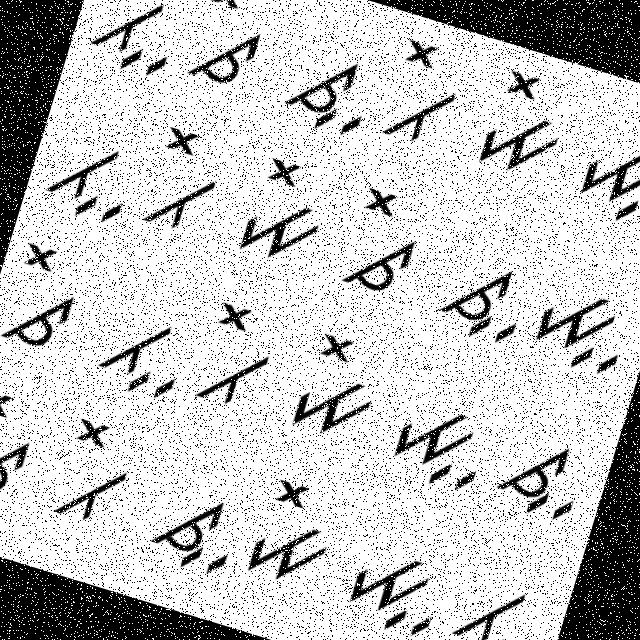bah: (27, 121, 141, 233), (90, 298, 194, 406), (83, 0, 190, 87), (441, 566, 549, 639)
bo: (44, 404, 146, 540), (184, 289, 289, 420), (370, 29, 475, 155), (134, 116, 232, 243)
cah: (428, 244, 536, 354), (142, 478, 250, 584), (274, 37, 381, 141), (491, 423, 592, 527)
co: (331, 180, 434, 314), (0, 229, 94, 360), (178, 0, 278, 100), (0, 377, 53, 508)
mah: (376, 384, 501, 505), (523, 265, 639, 385), (336, 530, 453, 639), (567, 118, 639, 234)
mo: (240, 464, 348, 598), (229, 149, 341, 275), (467, 59, 578, 185), (286, 322, 392, 452)
